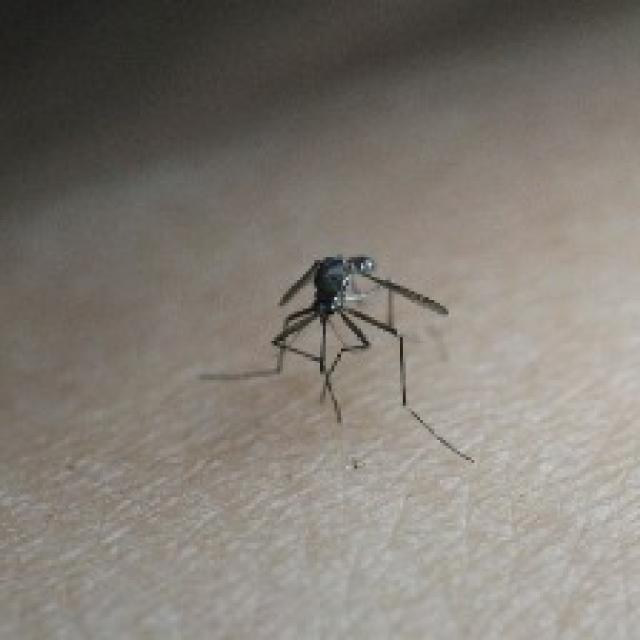aedes: (197, 248, 474, 466)
